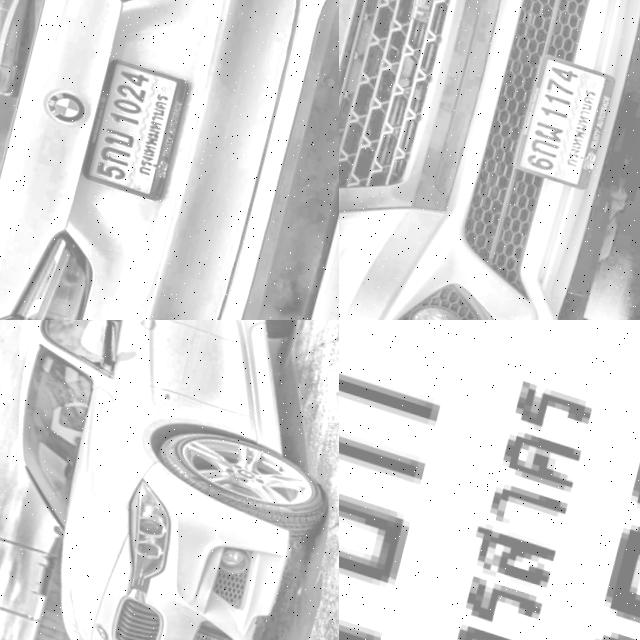license-plate: (339, 320, 640, 640), (75, 45, 196, 200), (507, 36, 621, 185), (146, 626, 214, 640)
